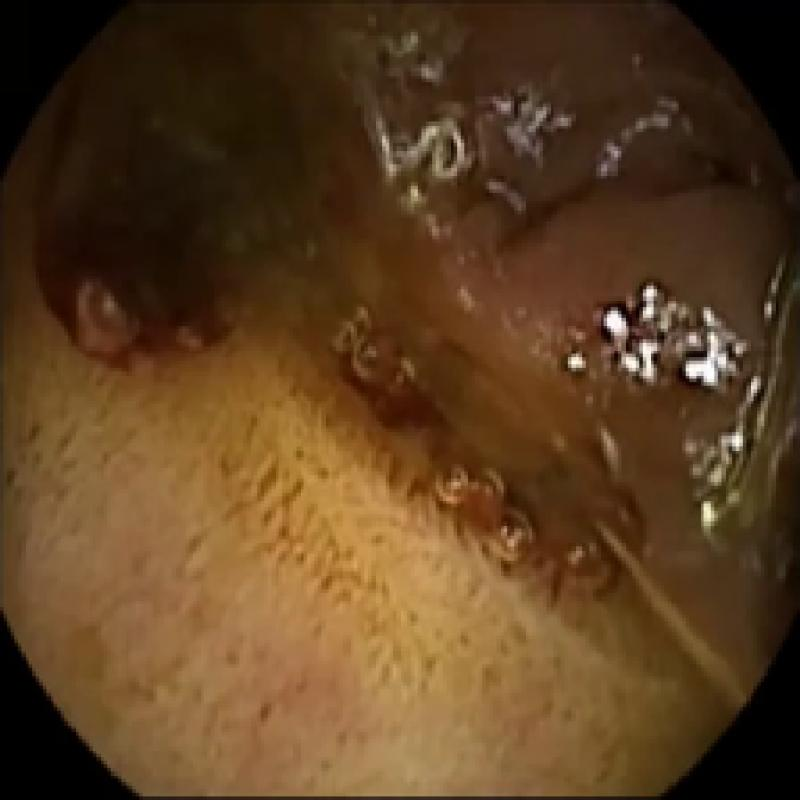bleeding: (58, 128, 236, 370)
